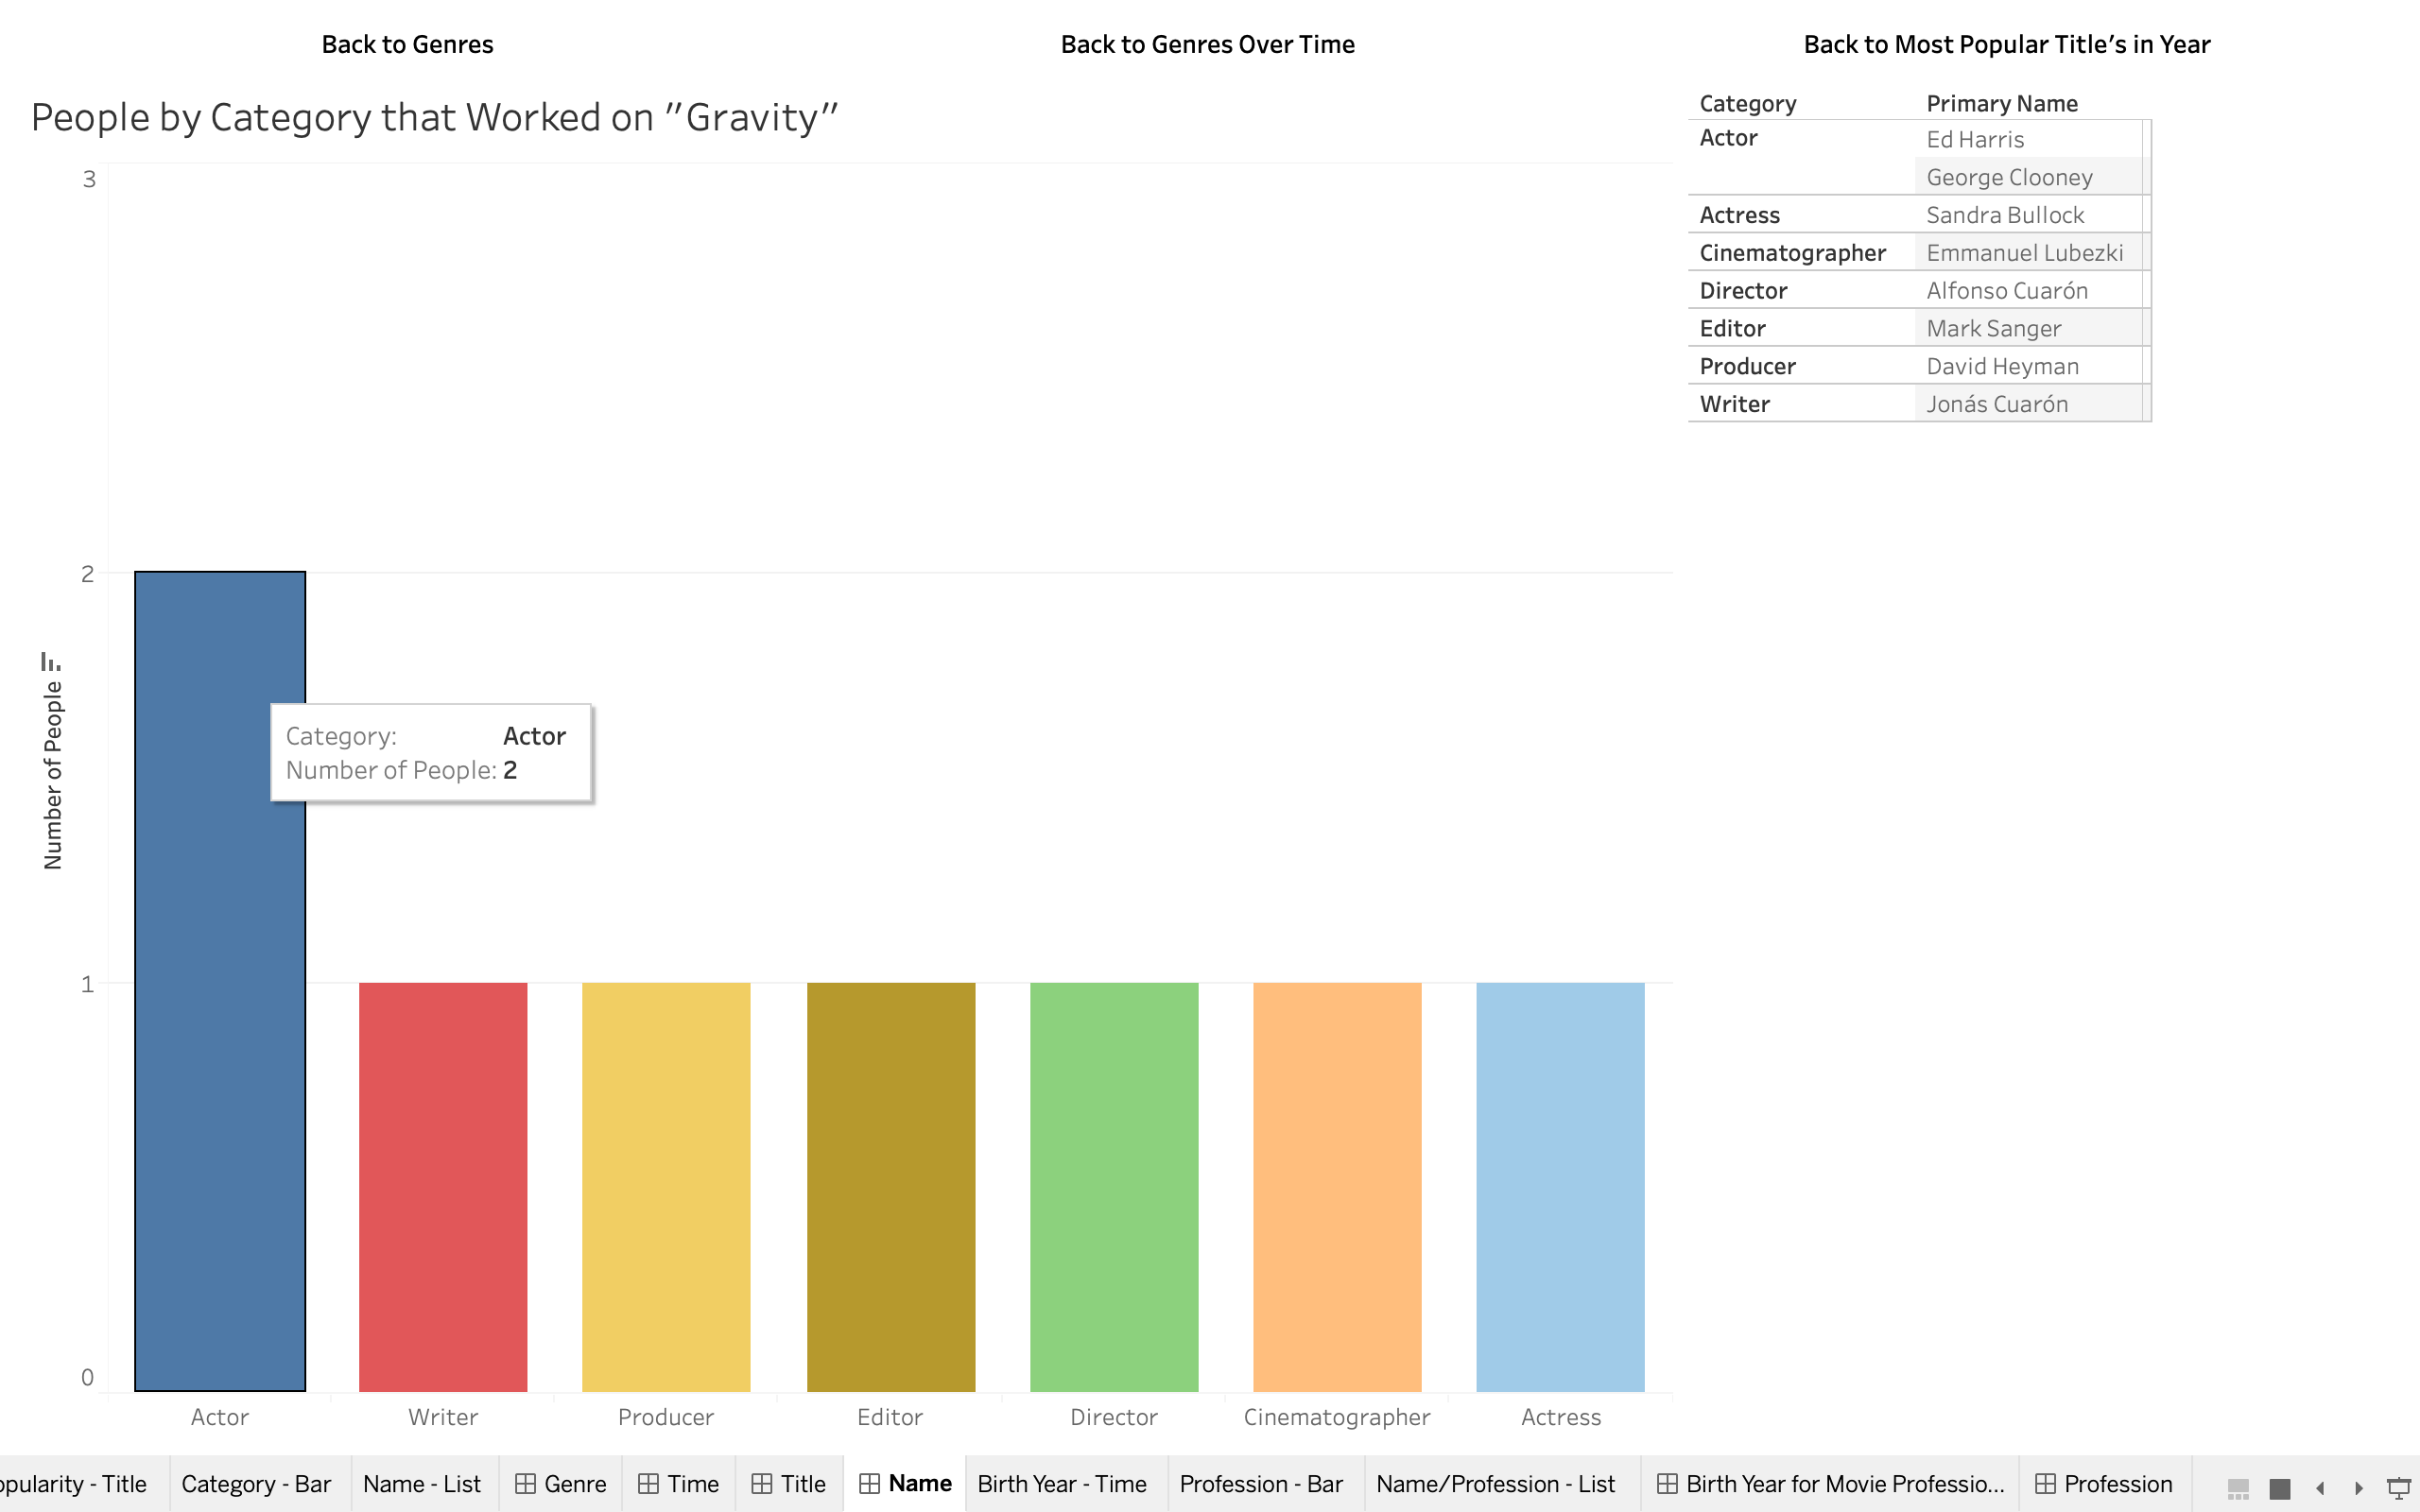

What the dashboard file says about the page in this screenshot:
{"tool":"tableau","page":{"name":"Name","canvas":[1000,1000],"units":"permille","ordinal":2},"visuals":[{"type":"dashboard-object","box":[6.2,10.4,326.1,39.9]},{"type":"dashboard-object","box":[332.4,10.4,334.2,39.9]},{"type":"dashboard-object","box":[666.6,10.4,327.2,39.9]},{"type":"worksheet","title":"Category - Bar","mark":"Bar","rows":["primary_name"],"cols":["category"],"box":[6.2,50.3,688.3,939.3]},{"type":"worksheet","title":"Name - List","mark":"Automatic","rows":["category","primary_name"],"box":[694.6,50.3,299.2,939.3]}]}

Visuals, with their boxes on the dashboard's canvas, which has no fixed pixel size, in thousandths of its width and height (x1, y1, x2, y2). These are canvas units, not pixel positions in the 2420x1512 screenshot, which may show the page scaled, cropped or inside an application window:
dashboard-object: Rect(6, 10, 332, 50)
dashboard-object: Rect(332, 10, 667, 50)
dashboard-object: Rect(667, 10, 994, 50)
"Category - Bar" worksheet (Bar marks): Rect(6, 50, 694, 990)
"Name - List" worksheet: Rect(695, 50, 994, 990)
